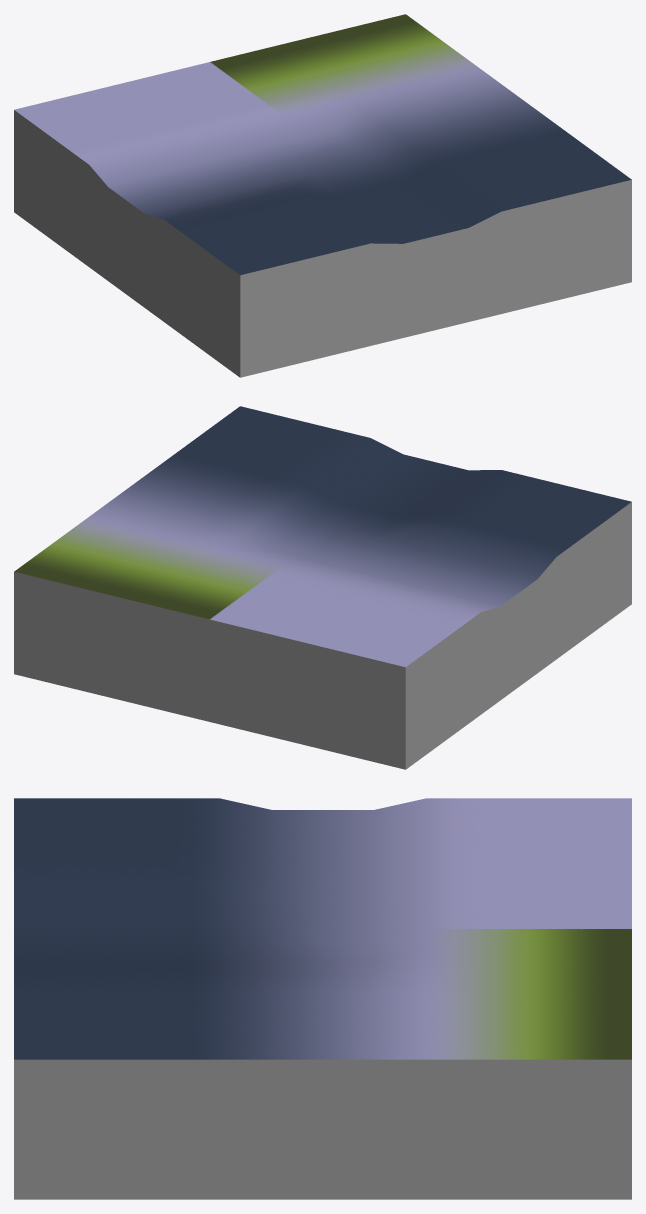
File: PathFlatCorner.fbx
3 renders of one model, top to bottom at view 1: azimuth 30°, elevation 25°; view 2: azimuth 150°, elevation 25°; view 3: azimuth 270°, elevation 25°, orthographic. The views are drawn at different scales.
Parts seen in each view (by area): view 1: PathFlatCorner; view 2: PathFlatCorner; view 3: PathFlatCorner.
Boxes of the visible parts, box(x1,y1,x2,y2) form: PathFlatCorner: box(14, 14, 631, 377); PathFlatCorner: box(14, 406, 631, 769); PathFlatCorner: box(14, 798, 631, 1199).
Bounding box in the file's own units: 1200 × 300 × 1200.
